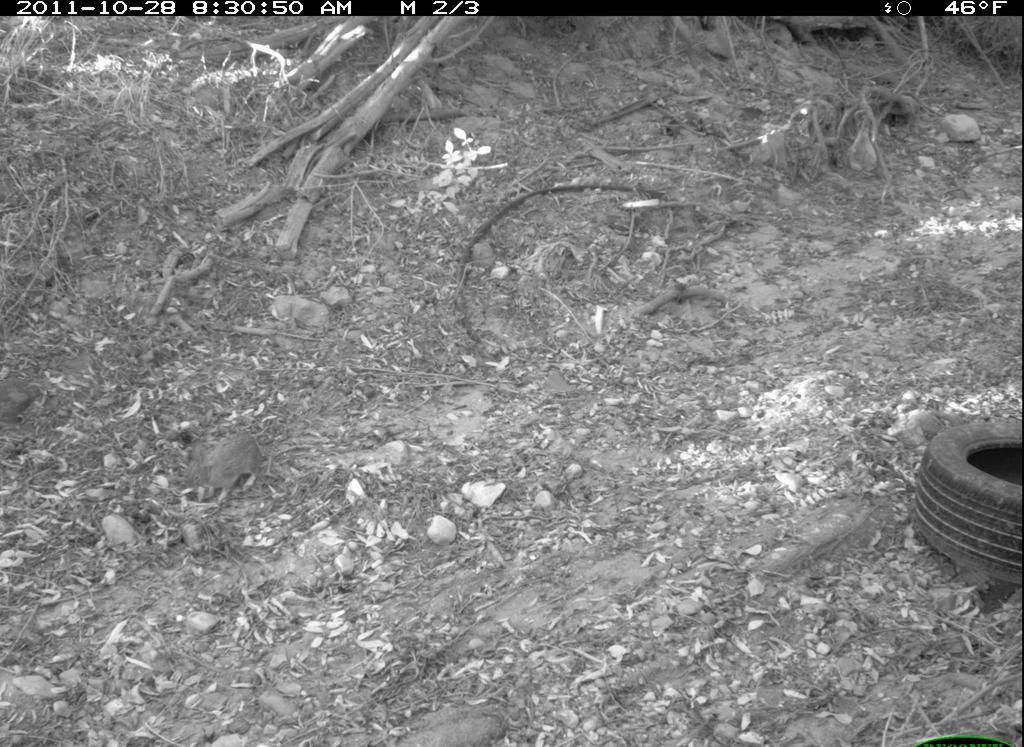rabbit: (186, 428, 280, 509)
